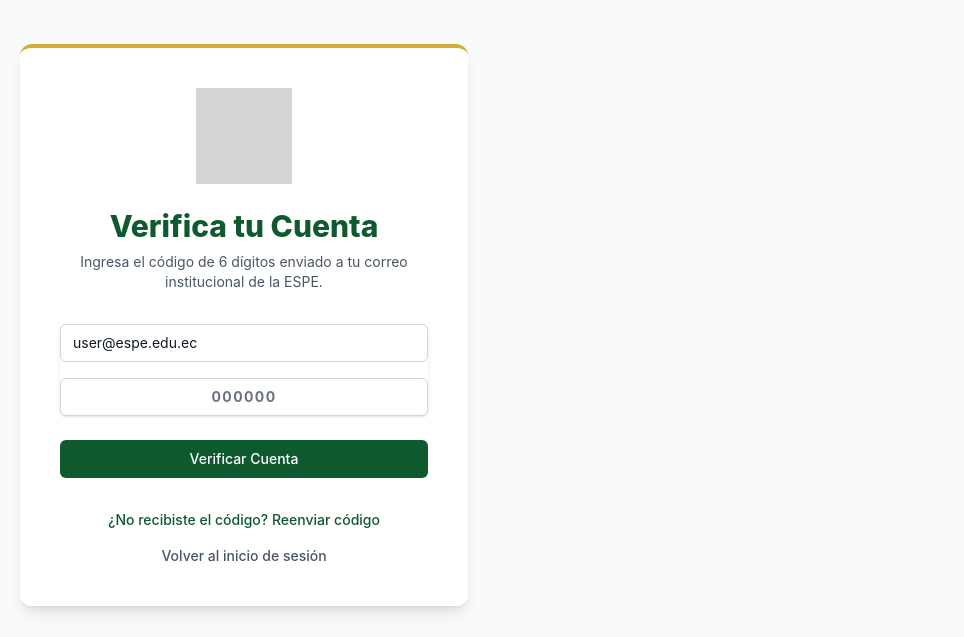
Test case: VerifyEmail - handleResend › reenvía el código y muestra cooldown si el email está presente
What coordinates should you click on to do the following:
click the button "¿No recibiste el código? Reenviar código"
I would click on:
 (244, 520)
Its box is [108,510,380,530].
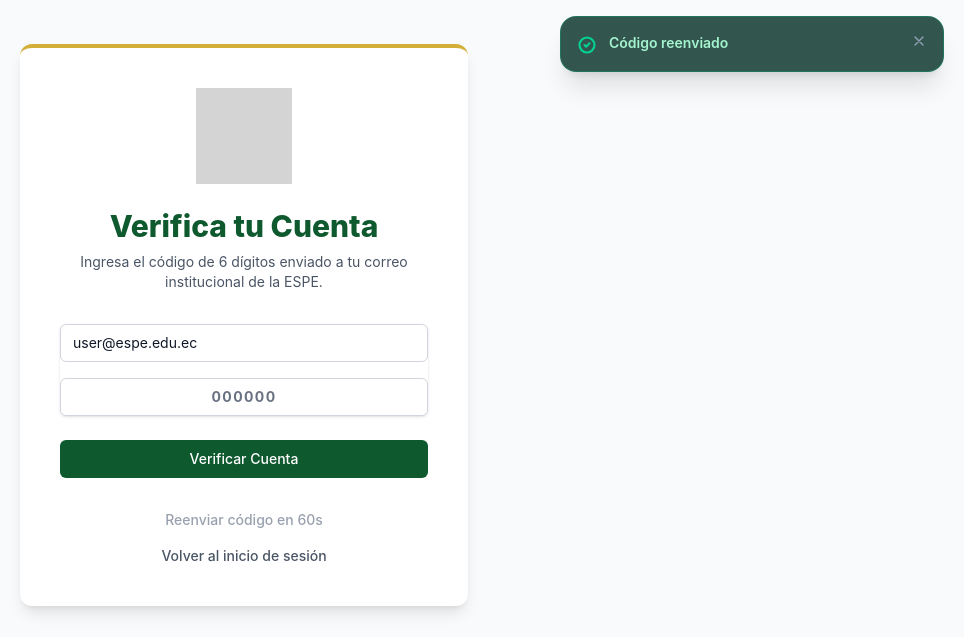
Now the button "Reenviar código en 60s" is shown, box [165,510,323,530]
